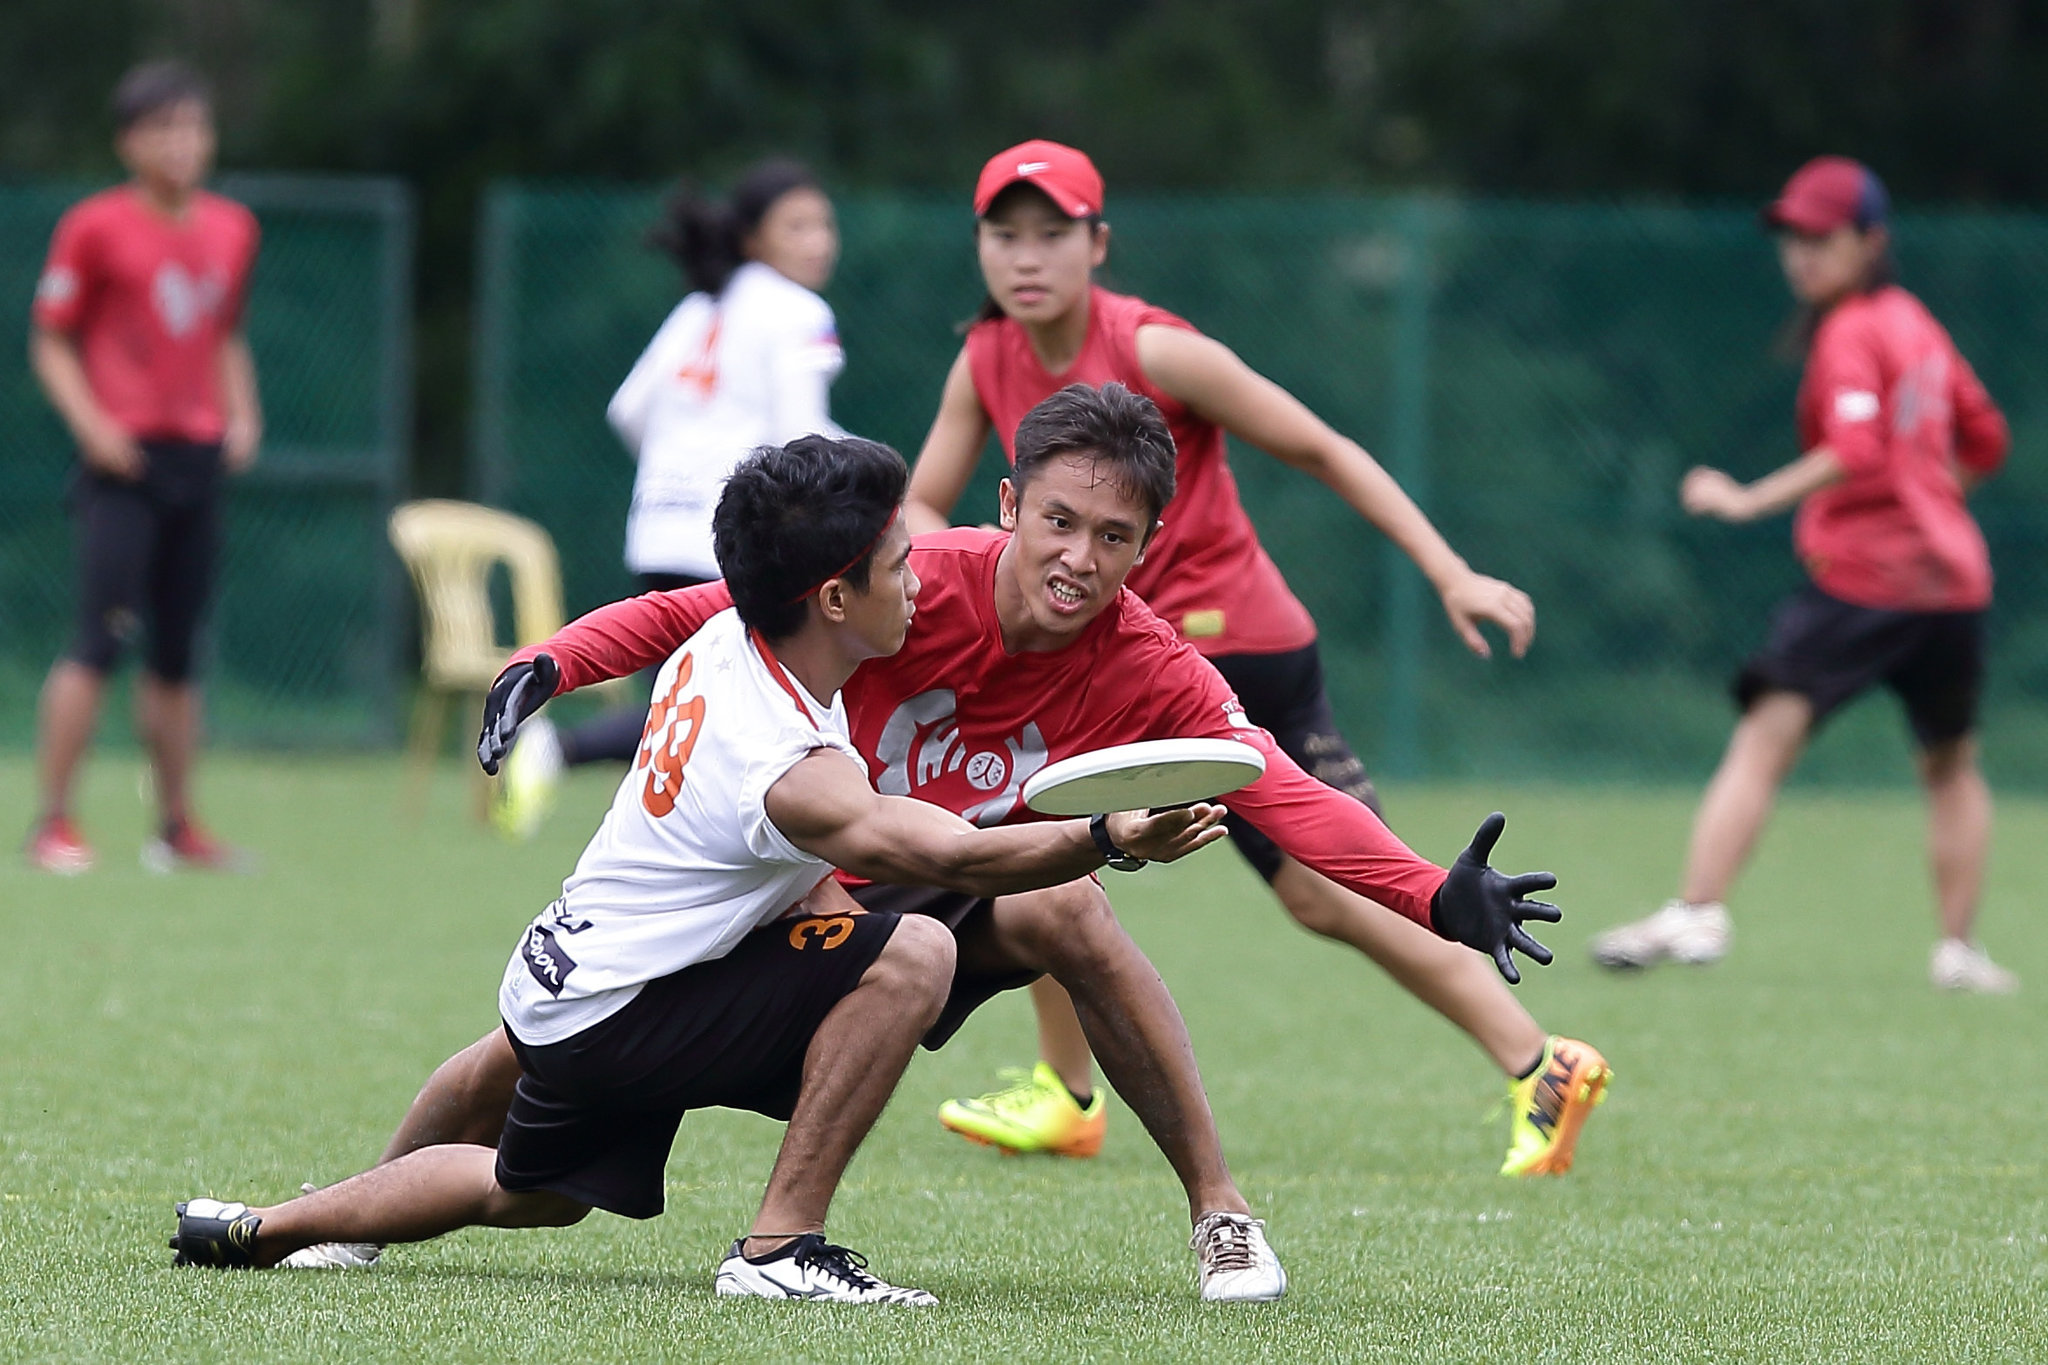disc: (1016, 739, 1276, 824)
